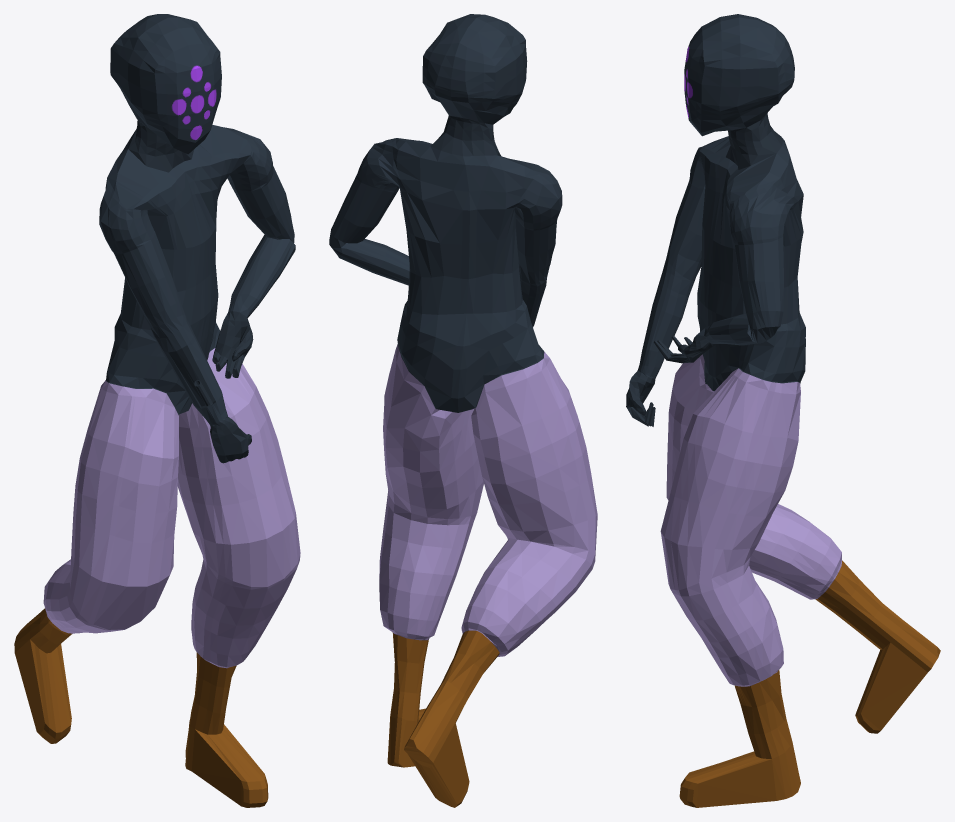
File: Oracle_Run_000005.obj
3 renders of one model, left to right at view 1: azimuth 30°, elevation 25°; view 2: azimuth 150°, elevation 25°; view 3: azimuth 270°, elevation 25°, orthographic. The views are drawn at different scales.
Visible parts, largest first — view 1: Cube; view 2: Cube; view 3: Cube.
Boxes of the visible parts, <box> form: Cube: <box>14,14,300,807</box>; Cube: <box>329,14,597,807</box>; Cube: <box>626,14,940,807</box>.
Bounding box in the file's own units: 1.26 × 3.82 × 1.44.
